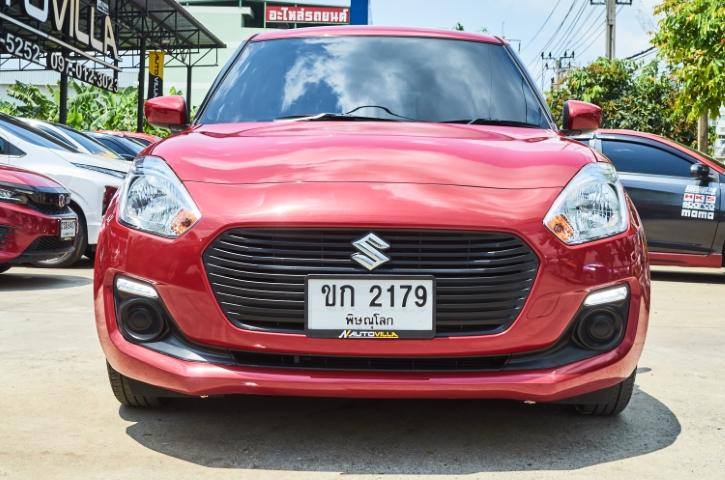license-plate: (303, 271, 436, 339), (56, 216, 79, 242)
